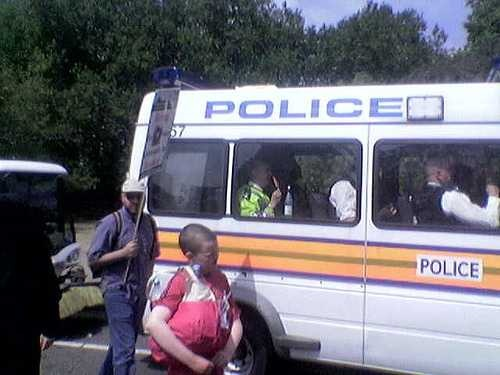Police Van: (103, 58, 500, 375)
